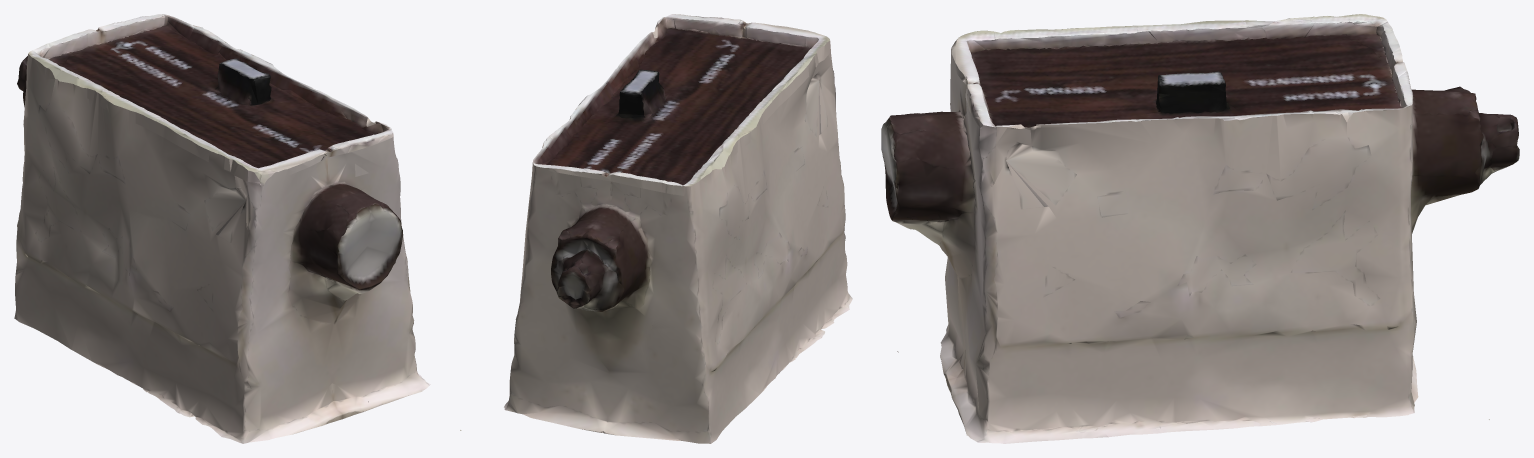
Rendered from magnavox_fixed.fbx.
The picture shows the model from 3 angles, left to right: view 1: azimuth 30°, elevation 25°; view 2: azimuth 150°, elevation 25°; view 3: azimuth 270°, elevation 25°; orthographic projection. The views are drawn at different scales.
Visible parts, largest first — view 1: magnavox_polySurface5; view 2: magnavox_polySurface5; view 3: magnavox_polySurface5.
Part boxes in pixels (x1=…): magnavox_polySurface5: x1=14, y1=14, x2=430, y2=443; magnavox_polySurface5: x1=460, y1=14, x2=852, y2=443; magnavox_polySurface5: x1=881, y1=14, x2=1519, y2=443.
Size of the model in its own units: 1.62 by 1.7 by 3.15.
Materials: 1 (1 with a texture image).
